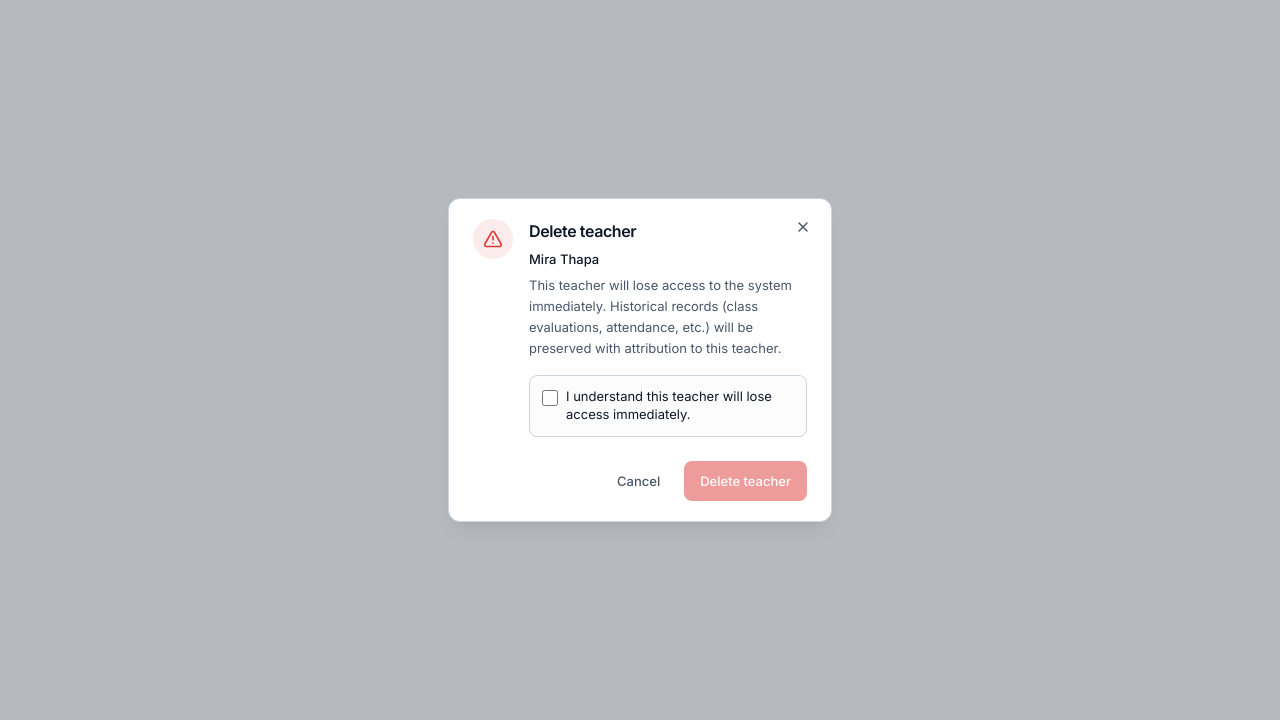
Test case: DeleteTeacherDialog (Session 6c.3 — checkbox + dialog-owned mutation) › on 403: shows the rewritten 'no permission' message (not the raw backend text)
Click the checkbox.
click(550, 398)  # box top-left (542, 390), bottom-right (558, 406)
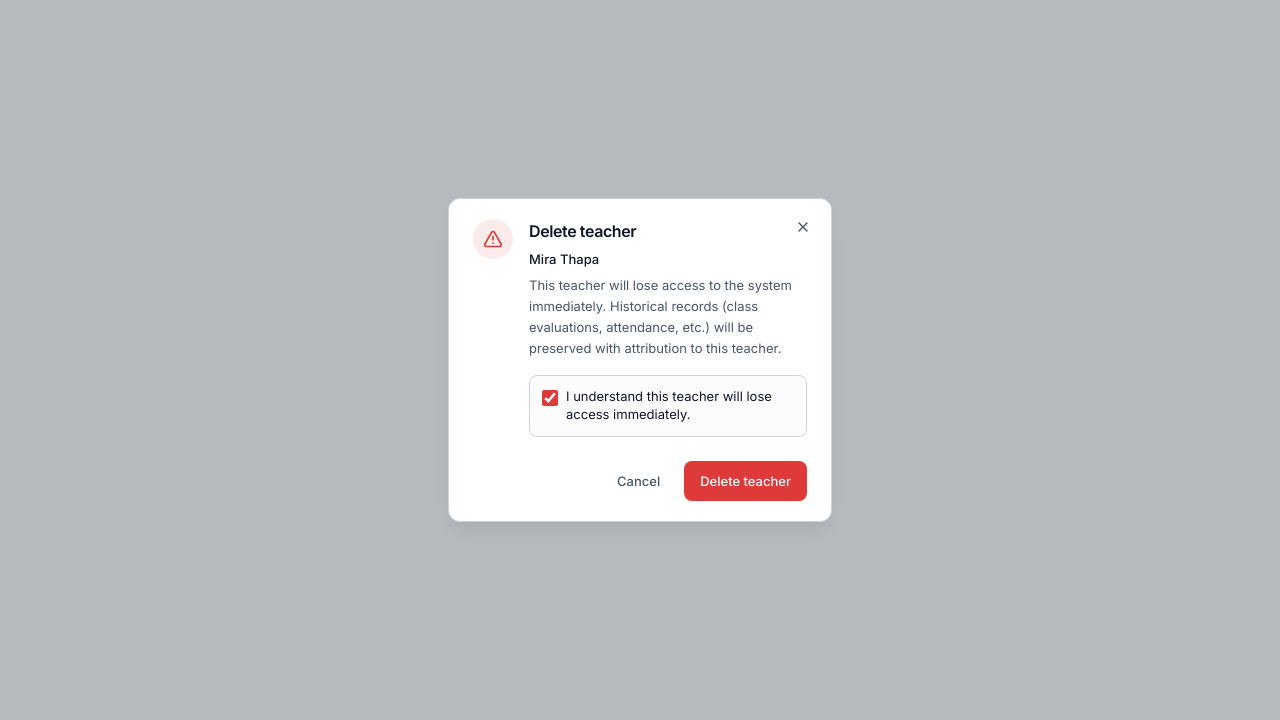
Click the button "Delete teacher".
click(746, 481)  # box top-left (684, 461), bottom-right (807, 501)
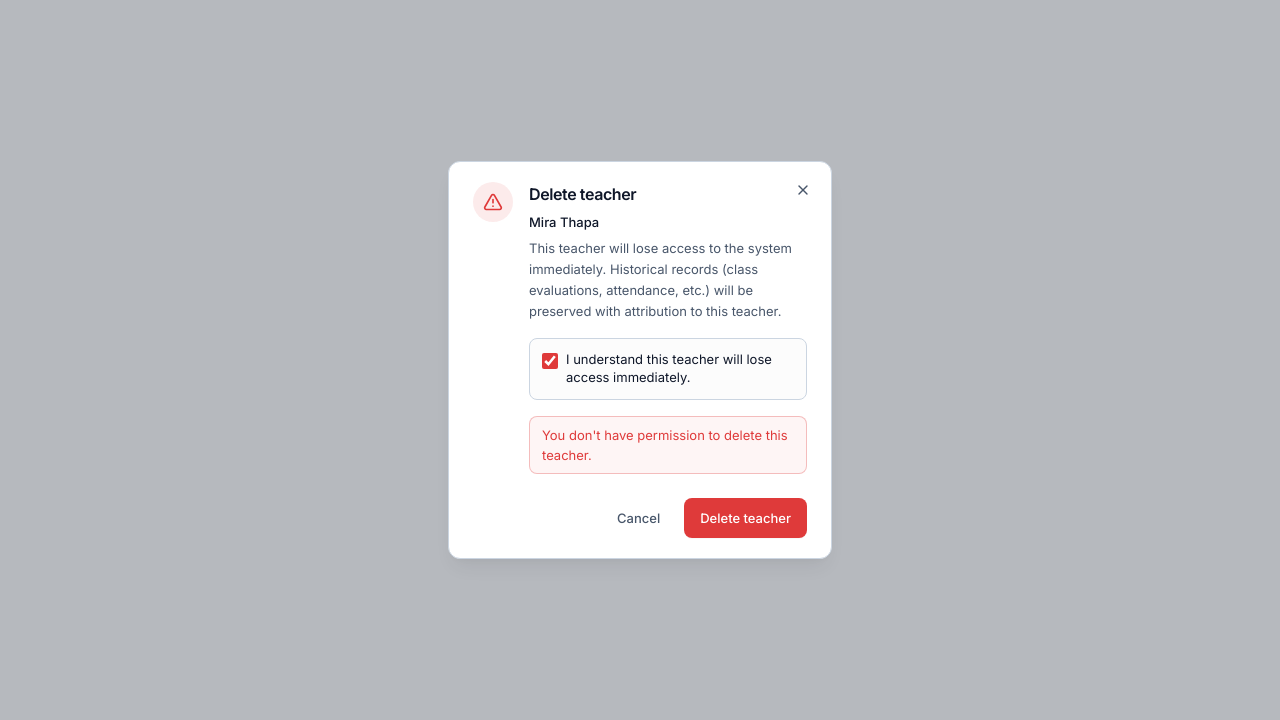
Expected: the message reads "You don't have permission to delete this teacher.", top-left (542, 427), bottom-right (788, 463)
